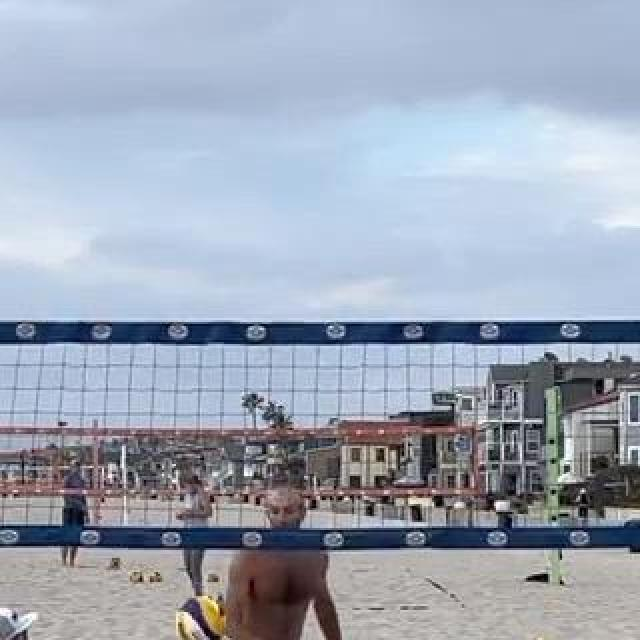volleyball: (176, 596, 224, 640), (130, 570, 144, 584), (149, 571, 163, 585), (108, 557, 122, 569), (208, 572, 220, 584)
